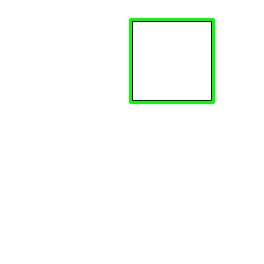line_segment: (129, 18, 215, 104)
